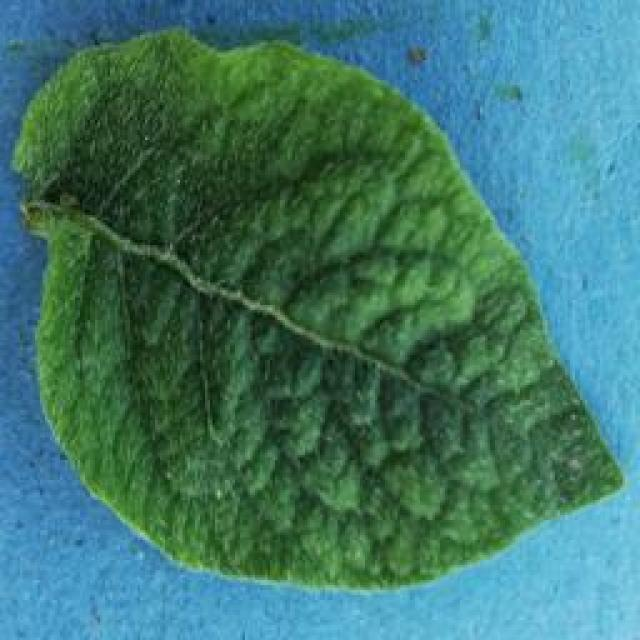Potato_Healthy: (13, 29, 619, 589)
